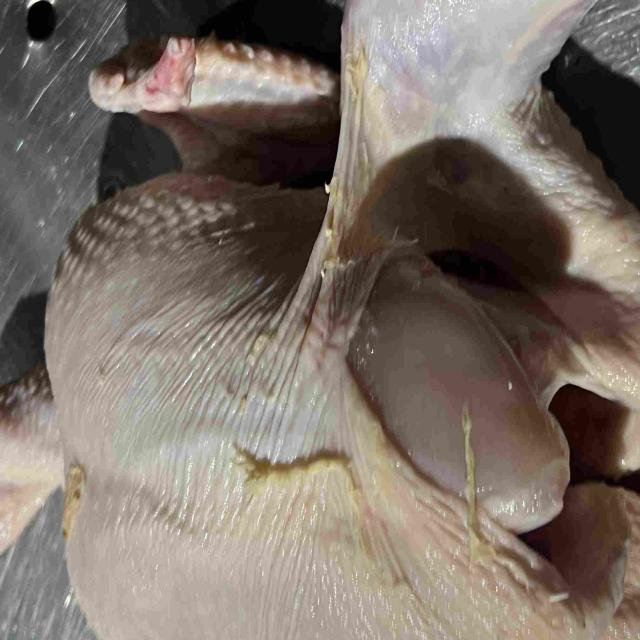breast: (43, 169, 618, 640)
leg: (336, 0, 591, 196)
neck: (0, 355, 55, 540)
wing: (83, 23, 339, 188)
